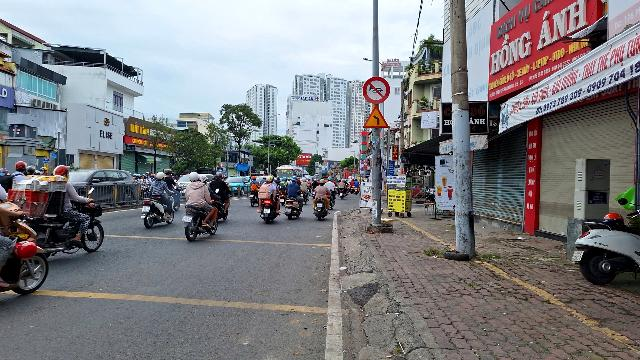cam-bop-coi: (363, 76, 390, 104)
cho-ngoat-nguy-hiem-ben-trai: (363, 105, 389, 128)
